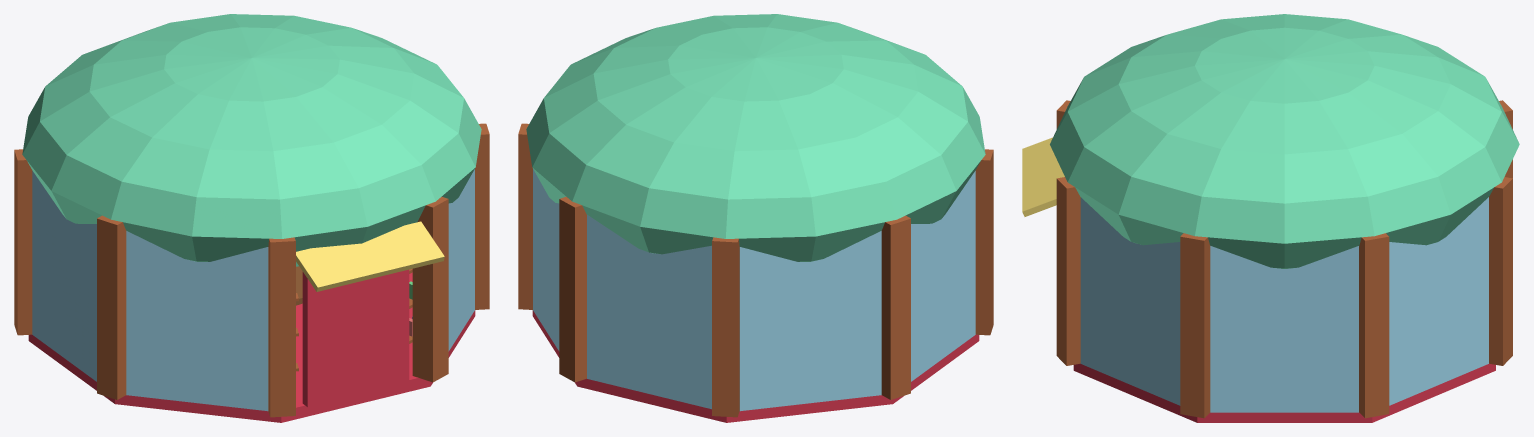
Rendered from gen_1772939280698.glb.
3 views of the same model, side by side, from view 1: azimuth 30°, elevation 25°; view 2: azimuth 150°, elevation 25°; view 3: azimuth 270°, elevation 25° (orthographic).
Parts seen in each view (by area): view 1: Sphere, Cube.069, Cube.083, Cube.055, Cube.084, Cube.085, Cube.056, Cube.070, Cylinder, Cube.098, Cube.042, Cube.099; view 2: Sphere, Cube.041, Cube.027, Cube.055, Cube.042, Cube.028, Cube.014, Cylinder, Cube.013, Cube.056, Cube; view 3: Sphere, Cube.112, Cube.098, Cube.013, Cube, Cube.099, Cube.085, Cube.014, Cylinder, Cube.084.
Boxes of the visible parts, bbox=[...] form: Sphere: bbox=[22, 14, 481, 266]; Cube.069: bbox=[126, 231, 268, 411]; Cube.083: bbox=[302, 269, 409, 407]; Cube.055: bbox=[32, 171, 96, 381]; Cube.084: bbox=[296, 221, 444, 291]; Cube.085: bbox=[412, 196, 448, 382]; Cube.056: bbox=[97, 215, 126, 399]; Cube.070: bbox=[268, 237, 295, 417]; Cylinder: bbox=[28, 272, 475, 422]; Cube.098: bbox=[448, 169, 474, 351]; Cube.042: bbox=[14, 149, 32, 335]; Cube.099: bbox=[475, 123, 489, 309]; Sphere: bbox=[526, 14, 985, 261]; Cube.041: bbox=[739, 231, 881, 411]; Cube.027: bbox=[587, 214, 711, 409]; Cube.055: bbox=[911, 171, 975, 381]; Cube.042: bbox=[881, 215, 910, 399]; Cube.028: bbox=[712, 237, 739, 417]; Cube.014: bbox=[559, 196, 586, 382]; Cylinder: bbox=[532, 310, 979, 422]; Cube.013: bbox=[533, 169, 559, 351]; Cube.056: bbox=[975, 149, 993, 335]; Cube: bbox=[518, 123, 532, 309]; Sphere: bbox=[1050, 14, 1519, 268]; Cube.112: bbox=[1210, 246, 1358, 412]; Cube.098: bbox=[1080, 197, 1180, 405]; Cube.013: bbox=[1389, 197, 1488, 405]; Cube: bbox=[1359, 233, 1389, 418]; Cube.099: bbox=[1180, 233, 1210, 418]; Cube.085: bbox=[1056, 177, 1080, 365]; Cube.014: bbox=[1489, 177, 1512, 365]; Cylinder: bbox=[1073, 363, 1495, 422]; Cube.084: bbox=[1022, 137, 1064, 216].
Bounding box in the file's own units: 7.2 × 4.64 × 7.62.
